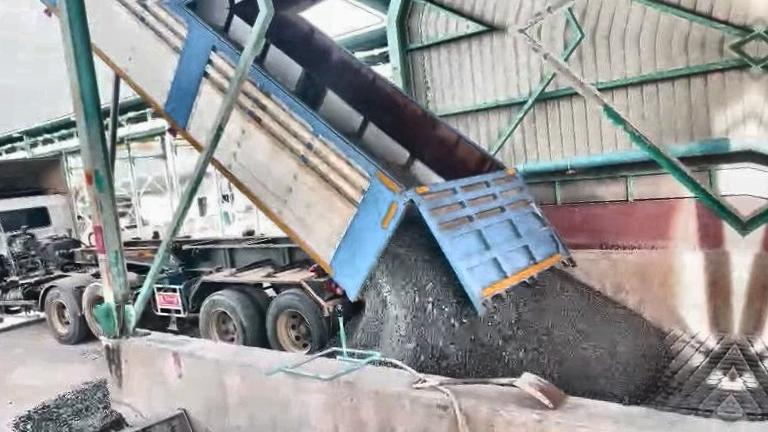gravel: (347, 213, 668, 403), (11, 379, 125, 432), (376, 153, 417, 185)
